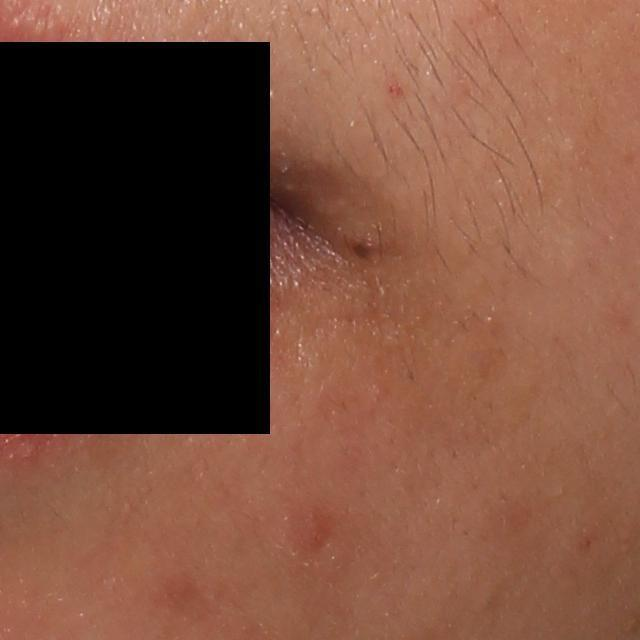nevus: (348, 238, 372, 260)
